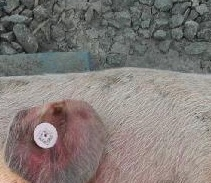text: (23, 113, 69, 153)
